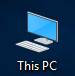pc: (12, 9, 61, 73)
